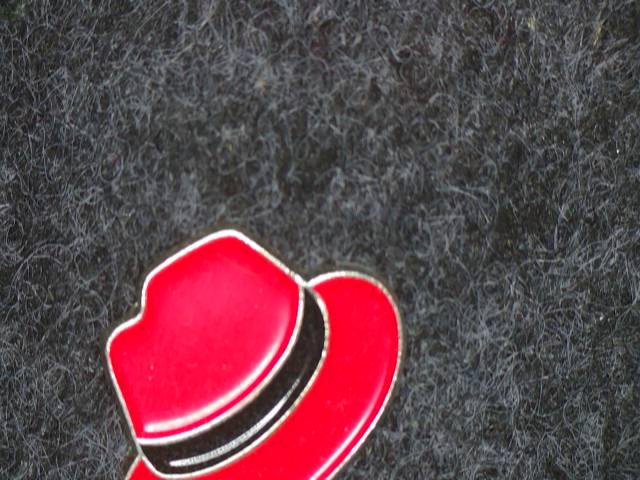Red-Hat: (53, 212, 431, 480)
